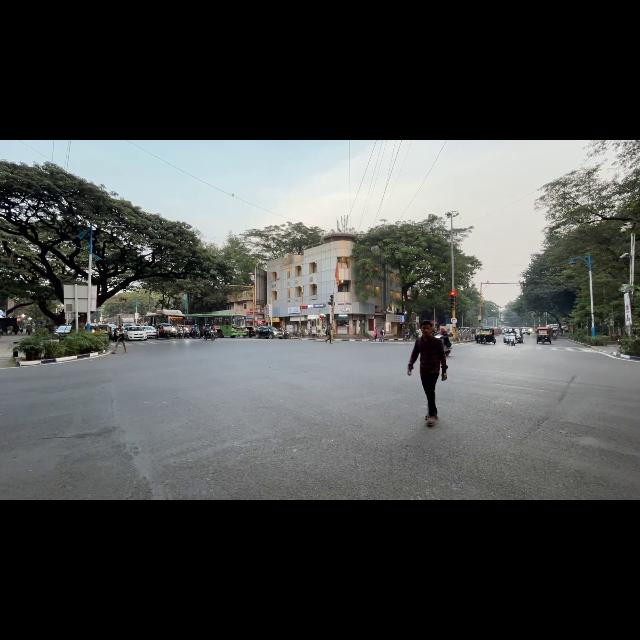bus: (186, 314, 246, 337), (144, 310, 186, 326)
car: (256, 326, 284, 338), (125, 326, 147, 340), (156, 323, 172, 338), (54, 325, 71, 338), (142, 326, 156, 338), (243, 326, 255, 337), (522, 328, 532, 334)
motorcycle: (436, 334, 452, 355), (506, 333, 516, 345), (203, 330, 215, 340), (184, 328, 192, 340), (192, 328, 200, 339), (170, 328, 178, 338), (176, 328, 184, 338), (283, 330, 290, 338)
